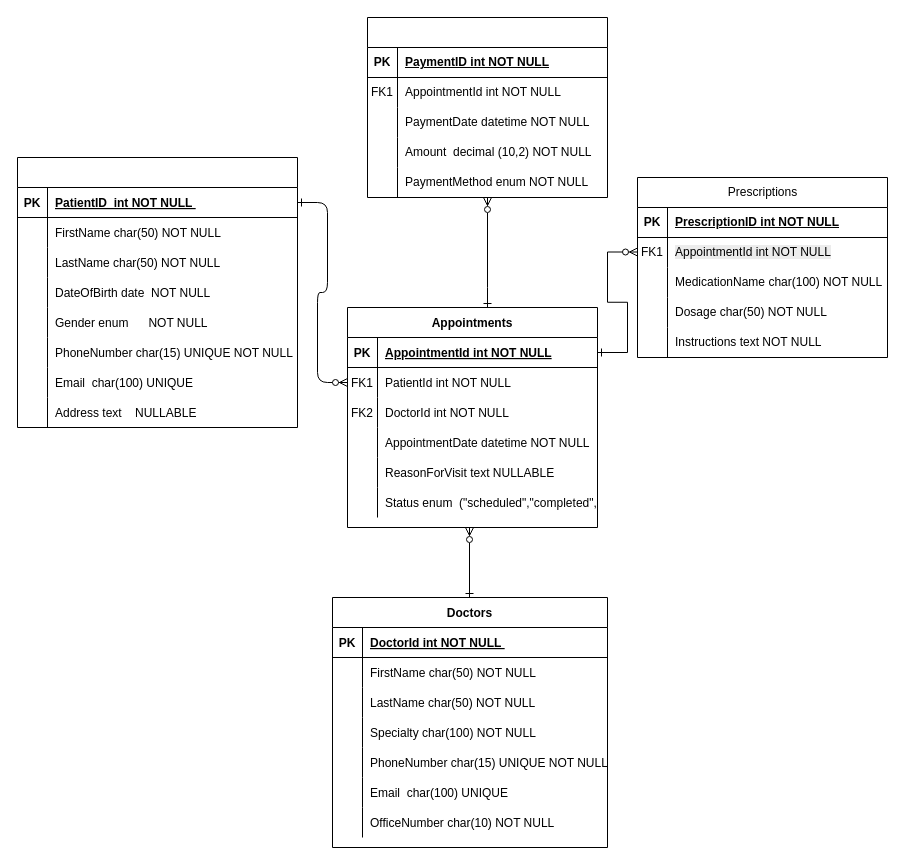
Some shapes in this 905 by 865 pixel diagram are drawn without their labels. The shapes that lost their labels are listed below. From the top down, each one's box as (x1, y1, x2, y2) in pixels, then its label:
(366, 16, 608, 198): Payments
(16, 156, 298, 428): Patients
